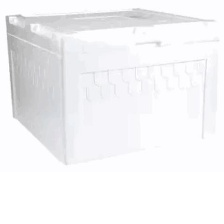foam_box: (0, 4, 224, 168)
